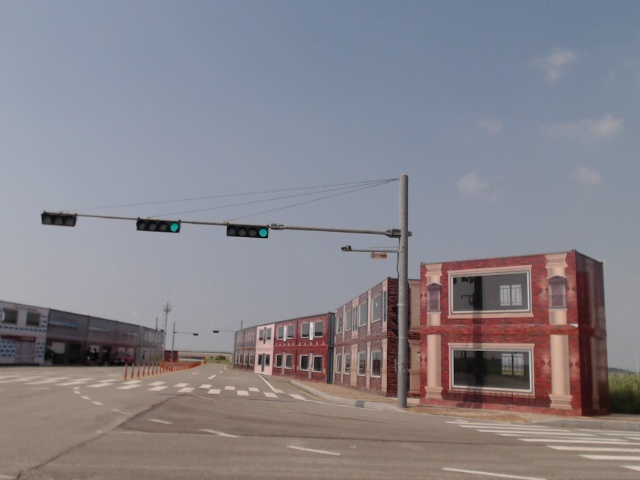straight_green_4: (134, 217, 179, 233), (227, 223, 268, 237)
